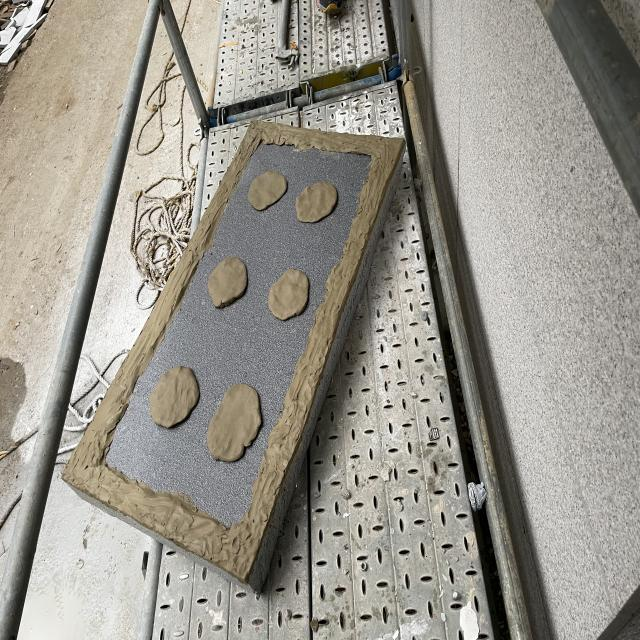dab: (207, 383, 261, 462), (148, 366, 199, 428), (268, 269, 309, 321), (208, 257, 247, 307), (295, 182, 337, 223), (248, 171, 287, 210)
insulation: (62, 121, 406, 595)
